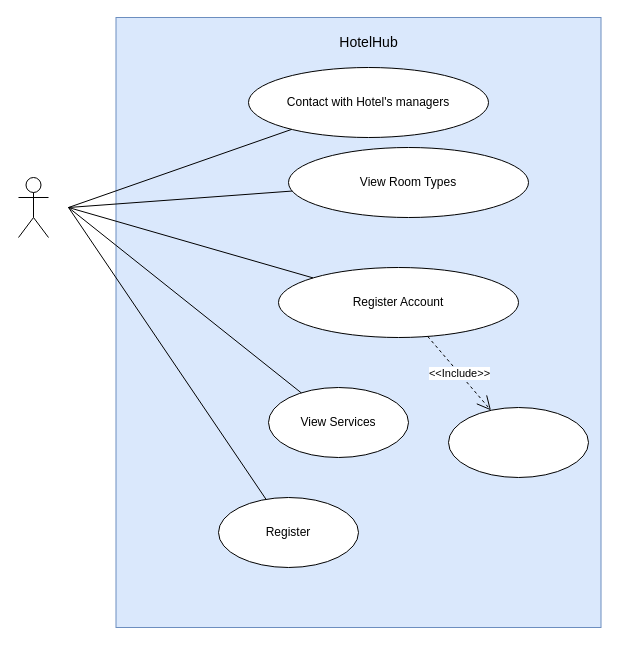
Image size: 619x645. Some labels were removed from this diagram. The shapes that lost their labels are listed below. From the top down, each one's centre as x and y in pixels, then its label:
(x=33, y=207): Guest
(x=518, y=442): Verify Email
